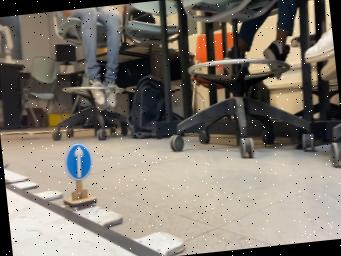forward: (63, 142, 96, 210)
street: (5, 184, 164, 256)
